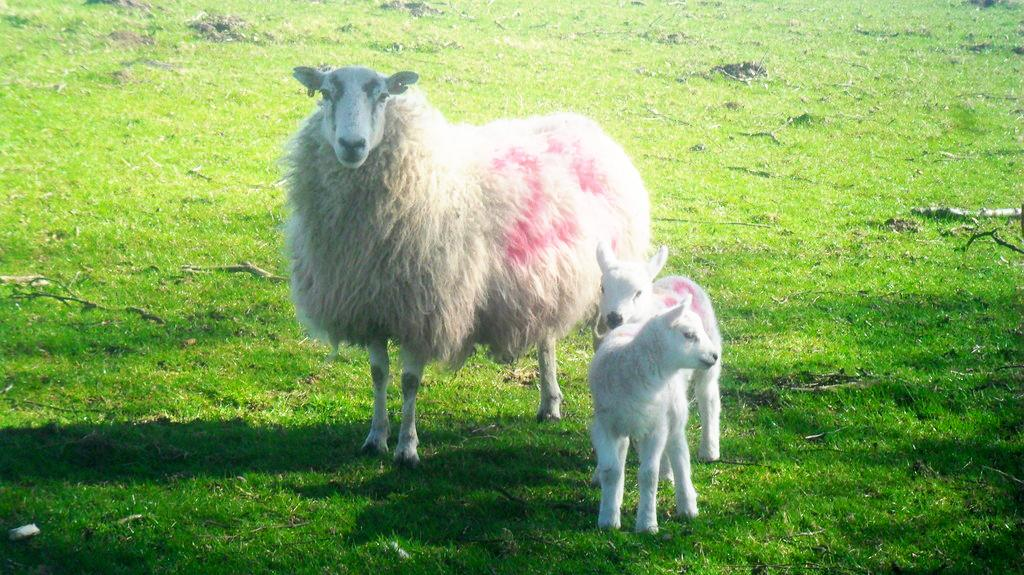Sheep: (278, 67, 652, 462), (589, 288, 719, 530), (593, 236, 720, 460)
